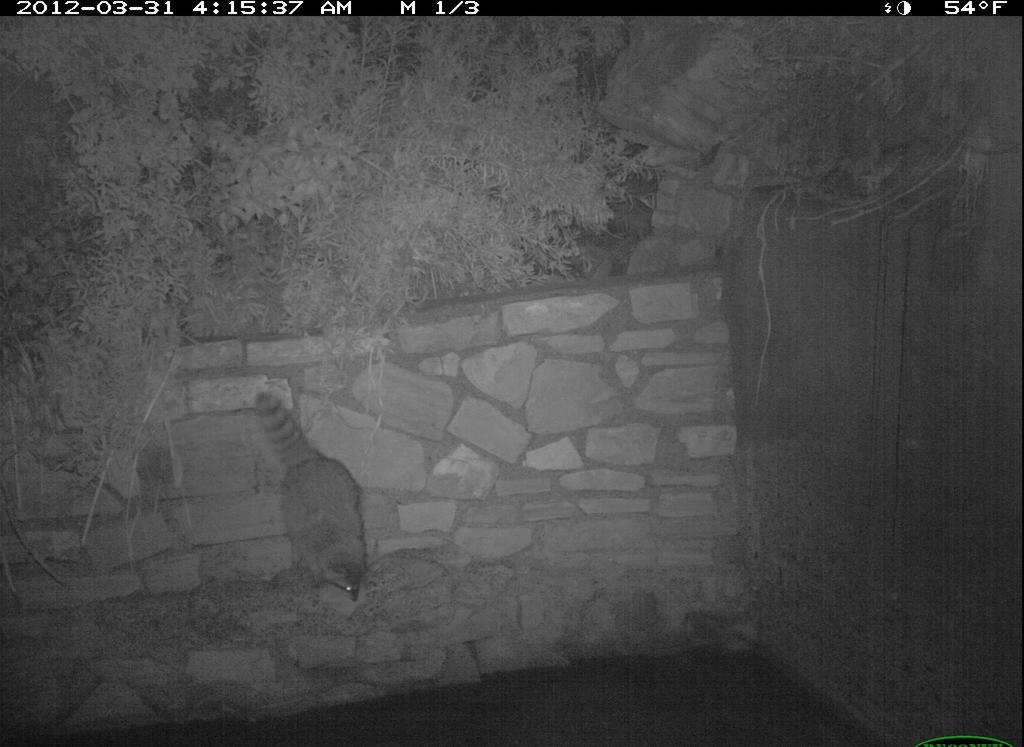raccoon: (241, 365, 378, 642)
